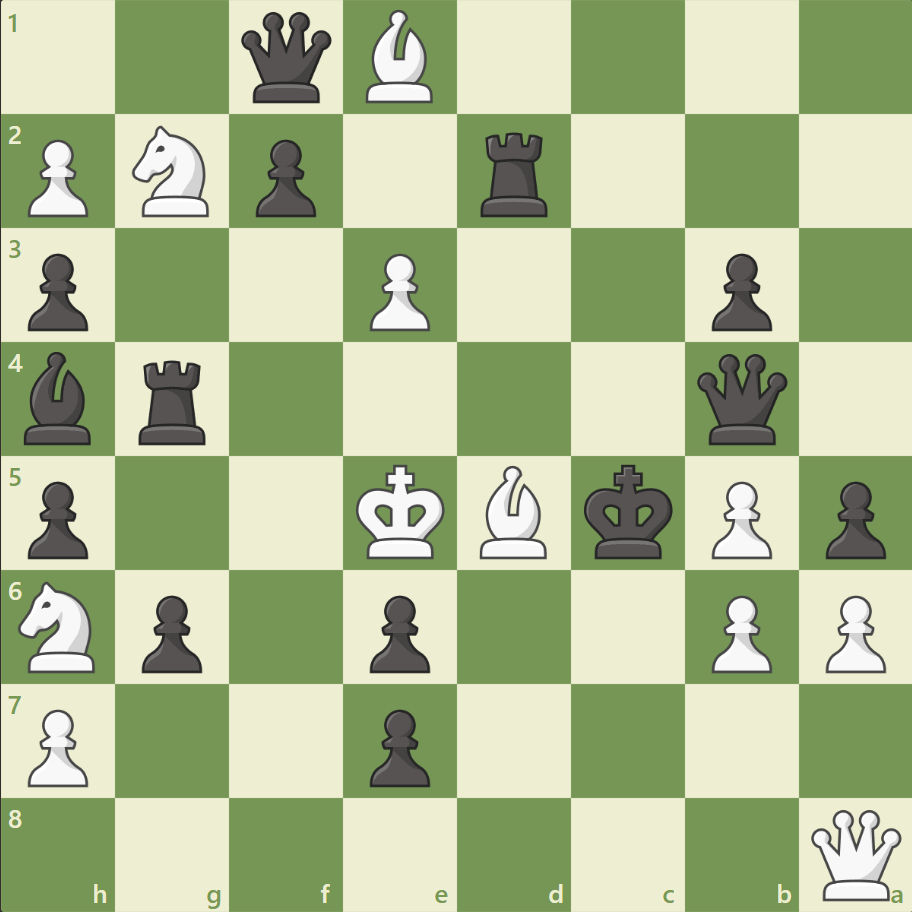B: (471, 460, 555, 563), (358, 6, 442, 109)
K: (351, 458, 451, 566)
N: (124, 121, 222, 223), (11, 575, 108, 677)
P: (20, 700, 95, 791), (701, 586, 776, 677), (701, 473, 776, 564), (20, 132, 95, 223), (815, 586, 889, 677), (361, 246, 435, 337)
Q: (805, 804, 904, 903)
b: (17, 347, 101, 449)
k: (579, 458, 679, 566)
p: (133, 586, 208, 677), (20, 473, 95, 564), (701, 246, 776, 337), (20, 246, 95, 337), (247, 132, 322, 223), (361, 700, 435, 791), (361, 586, 435, 677), (815, 473, 889, 564)
q: (691, 349, 790, 449), (237, 9, 336, 108)
r: (473, 125, 556, 222), (133, 352, 215, 449)
